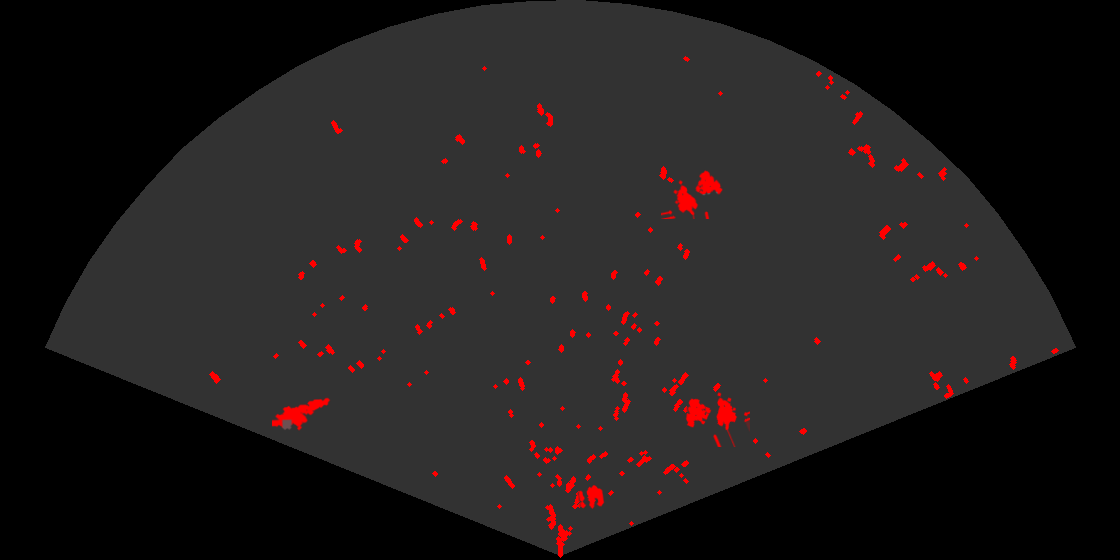ball: (577, 484, 606, 511)
cage: (684, 391, 750, 447), (661, 169, 724, 219)
frogman: (272, 396, 331, 432)
